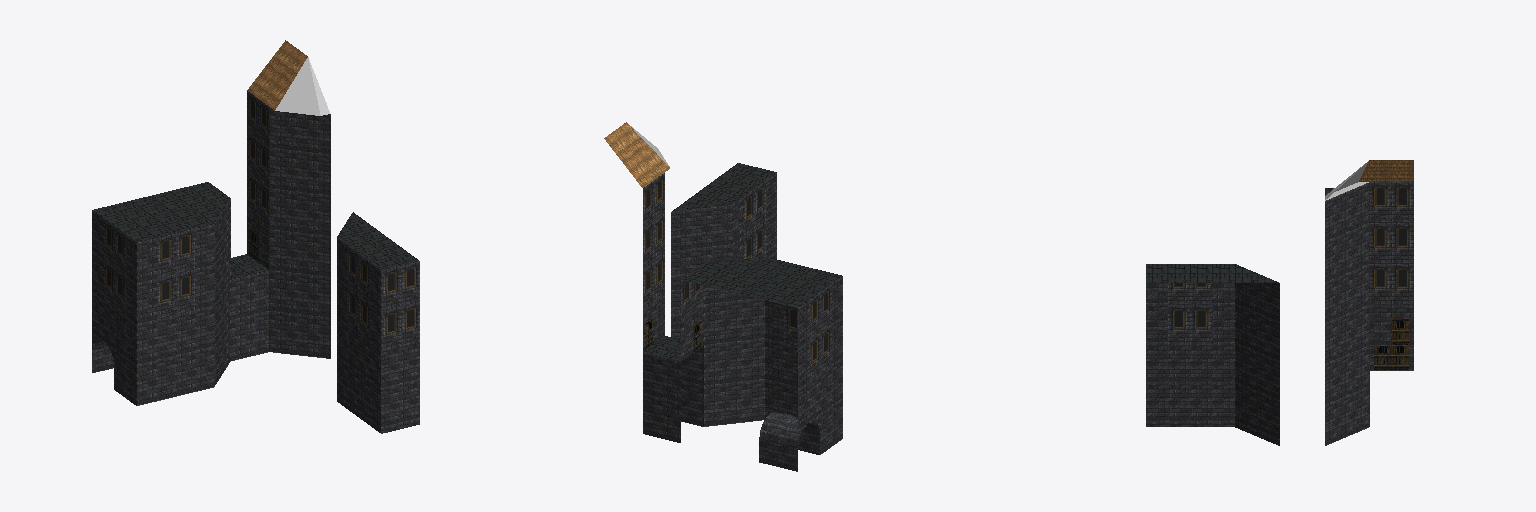
3 renders of one model, left to right at view 1: azimuth 30°, elevation 25°; view 2: azimuth 150°, elevation 25°; view 3: azimuth 270°, elevation 25°, orthographic.
Visible parts, largest first — view 1: model729-node_model729; view 2: model729-node_model729; view 3: model729-node_model729.
Boxes of the visible parts, x1=… form: model729-node_model729: x1=92, y1=40, x2=419, y2=433; model729-node_model729: x1=604, y1=122, x2=842, y2=471; model729-node_model729: x1=1146, y1=160, x2=1413, y2=445.
Bounding box in the file's own units: 16 × 22.57 × 19.2.
7 materials, 5 textured.